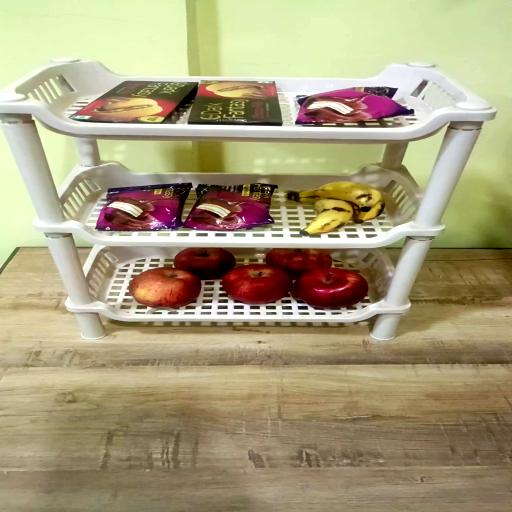Apple: (294, 269, 368, 309), (130, 268, 202, 309), (224, 265, 294, 306), (173, 249, 235, 281), (267, 250, 333, 280)
Choco Fills: (70, 80, 196, 124), (190, 80, 284, 125)
Choco Pie: (296, 85, 415, 124), (95, 186, 190, 233), (186, 186, 276, 233)
